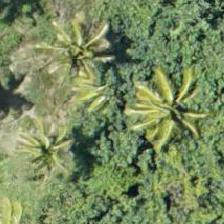coconut_tree: (32, 4, 122, 94), (122, 65, 212, 155), (0, 106, 85, 196)
